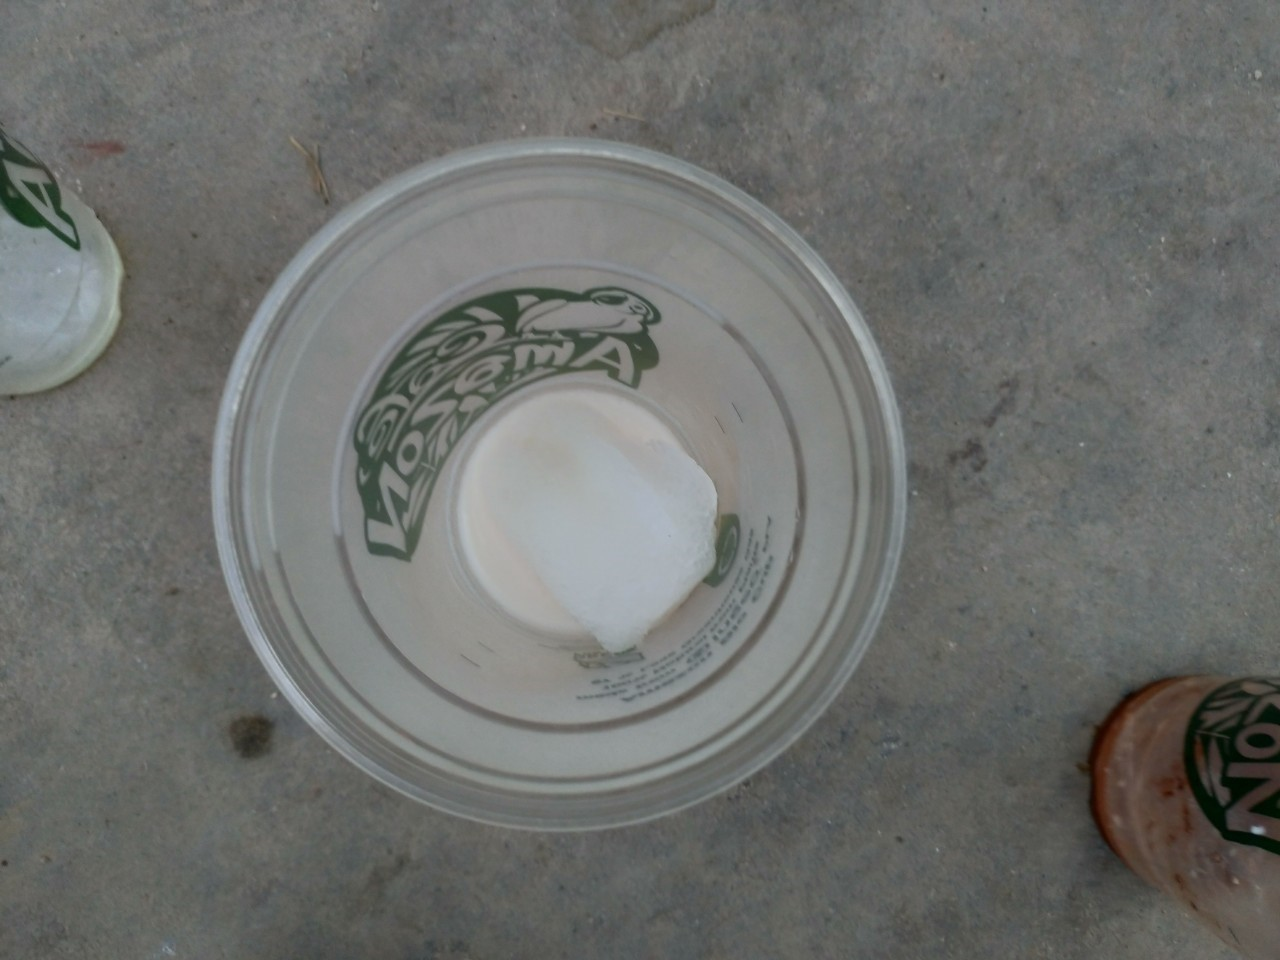PlasticCup: (210, 134, 907, 844), (1083, 662, 1280, 944), (1, 153, 117, 409)
